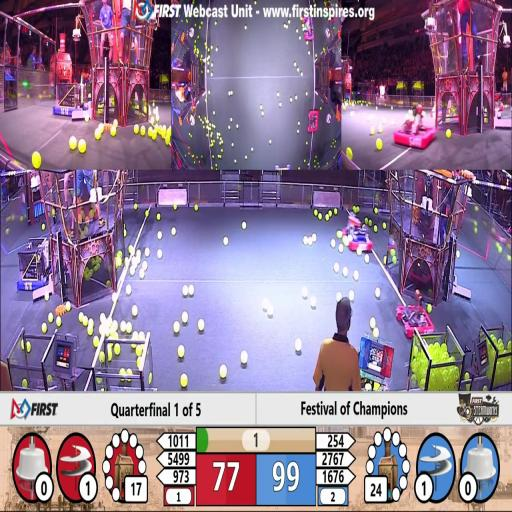robot: (392, 99, 436, 152), (14, 235, 52, 293), (394, 302, 435, 342), (51, 78, 88, 117), (341, 215, 374, 254), (491, 220, 512, 248), (301, 14, 314, 44), (307, 109, 319, 136), (326, 4, 338, 24), (494, 98, 504, 112)
